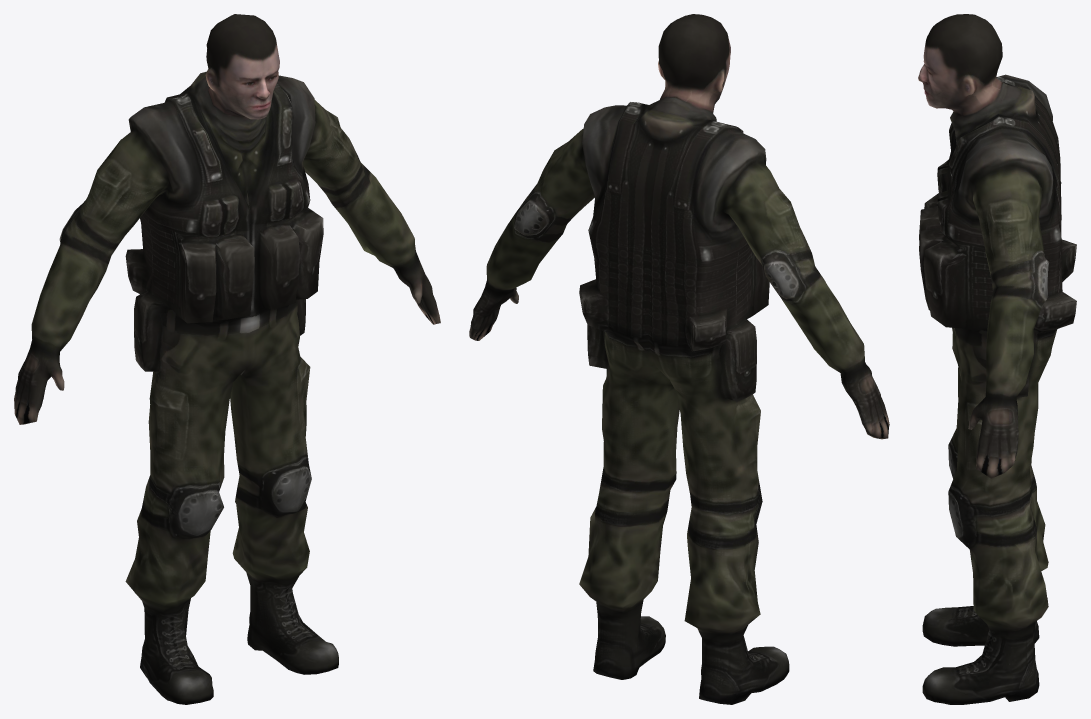
Rendered from soldier.fbx.
3 views of the same model, side by side, from view 1: azimuth 30°, elevation 25°; view 2: azimuth 150°, elevation 25°; view 3: azimuth 270°, elevation 25° (orthographic).
Visible parts, largest first — view 1: soldier; view 2: soldier; view 3: soldier.
Part boxes in pixels (<box>): soldier: <box>14,14,440,704</box>; soldier: <box>469,14,889,704</box>; soldier: <box>918,14,1076,704</box>.
Size of the model in its own units: 120 by 180 by 39.85.
1 material, 1 textured.
